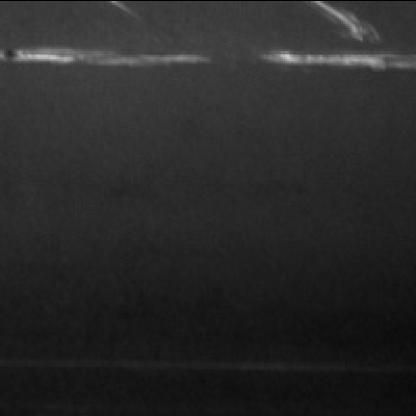scratches: (8, 38, 210, 66), (260, 42, 416, 68), (312, 0, 389, 46)
